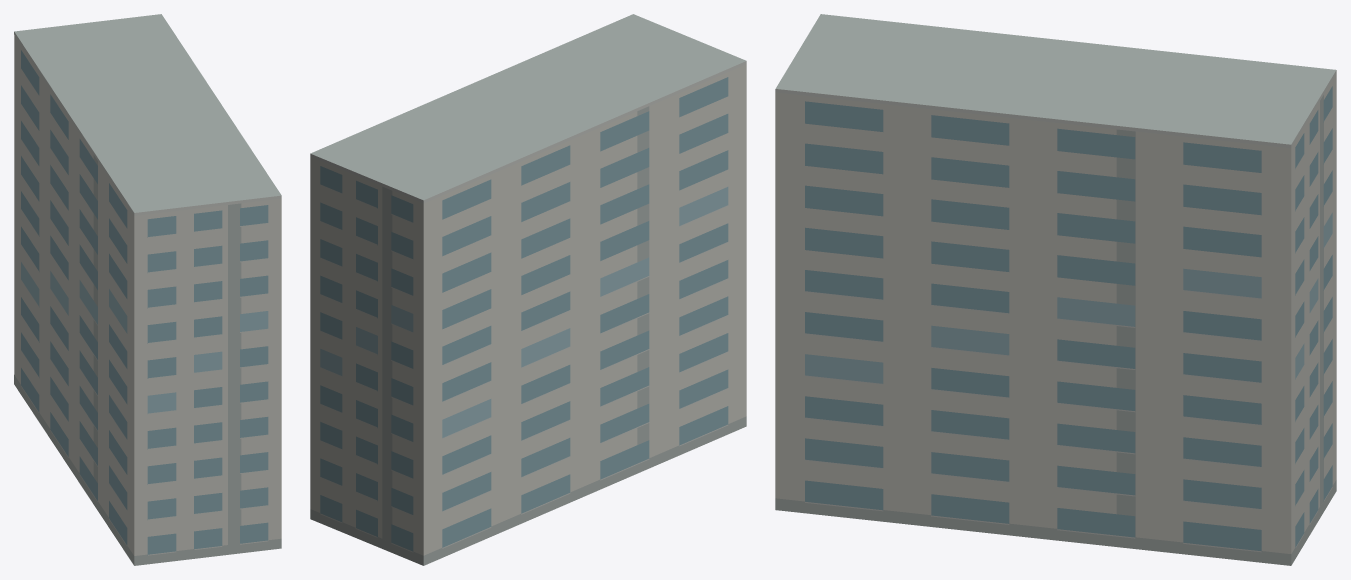
The model's file is residential-2d6de1e1-e1ee-4e64-b85a-cde69404dfa4.glb.
3 renders of one model, left to right at view 1: azimuth 30°, elevation 25°; view 2: azimuth 150°, elevation 25°; view 3: azimuth 270°, elevation 25°, orthographic. The views are drawn at different scales.
Parts seen in each view (by area): view 1: residential-2d6de1e1-e1ee-4e64-b85a-cde69404dfa4.tmp; view 2: residential-2d6de1e1-e1ee-4e64-b85a-cde69404dfa4.tmp; view 3: residential-2d6de1e1-e1ee-4e64-b85a-cde69404dfa4.tmp.
Boxes of the visible parts, x1=… form: residential-2d6de1e1-e1ee-4e64-b85a-cde69404dfa4.tmp: x1=14, y1=14, x2=281, y2=565; residential-2d6de1e1-e1ee-4e64-b85a-cde69404dfa4.tmp: x1=310, y1=14, x2=746, y2=565; residential-2d6de1e1-e1ee-4e64-b85a-cde69404dfa4.tmp: x1=775, y1=14, x2=1336, y2=565.
Bounding box in the file's own units: 18.64 × 28 × 33.81.
